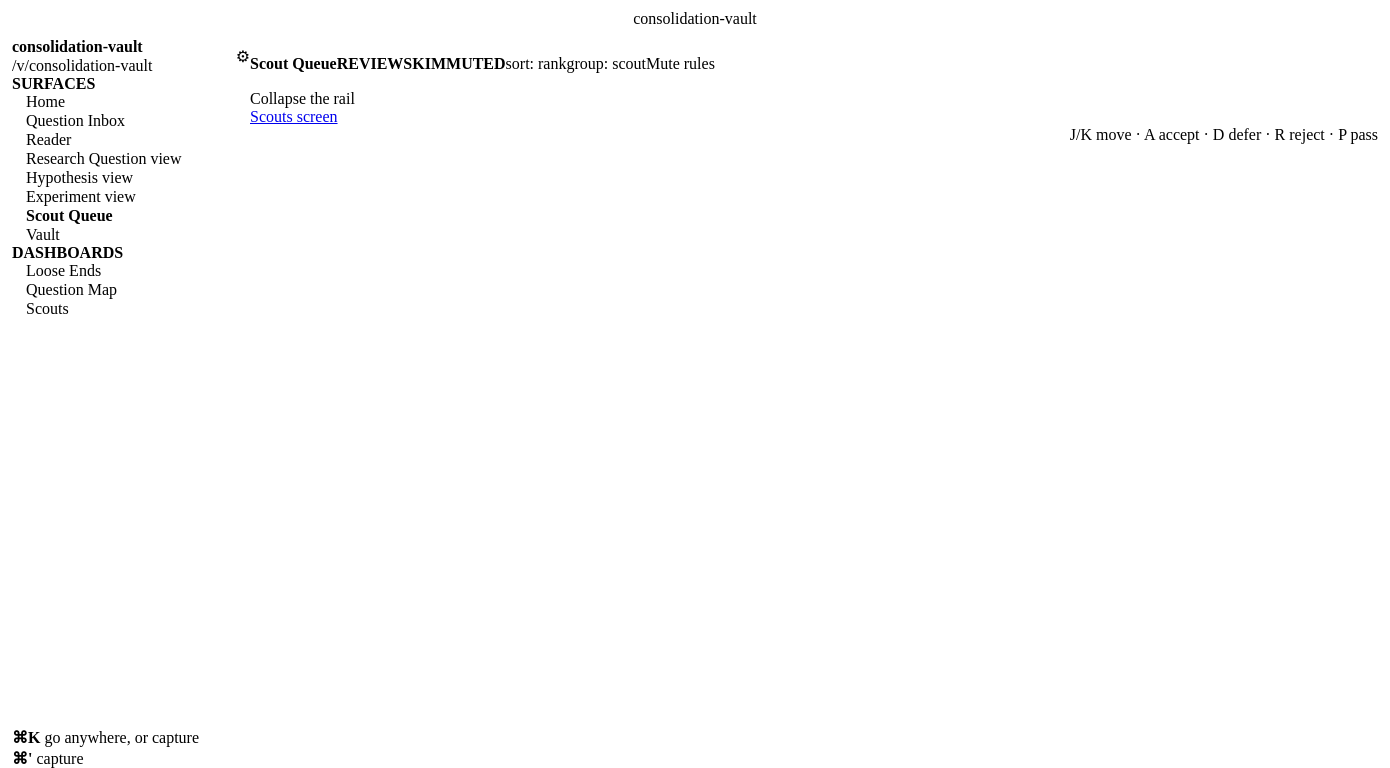
Scenario: a refused act in the Scout Queue › promote to Review is an alert carrying the core's sentence, and no status stands in its place
Click the tab "Skim" at (425, 64), box [403, 55, 446, 73]
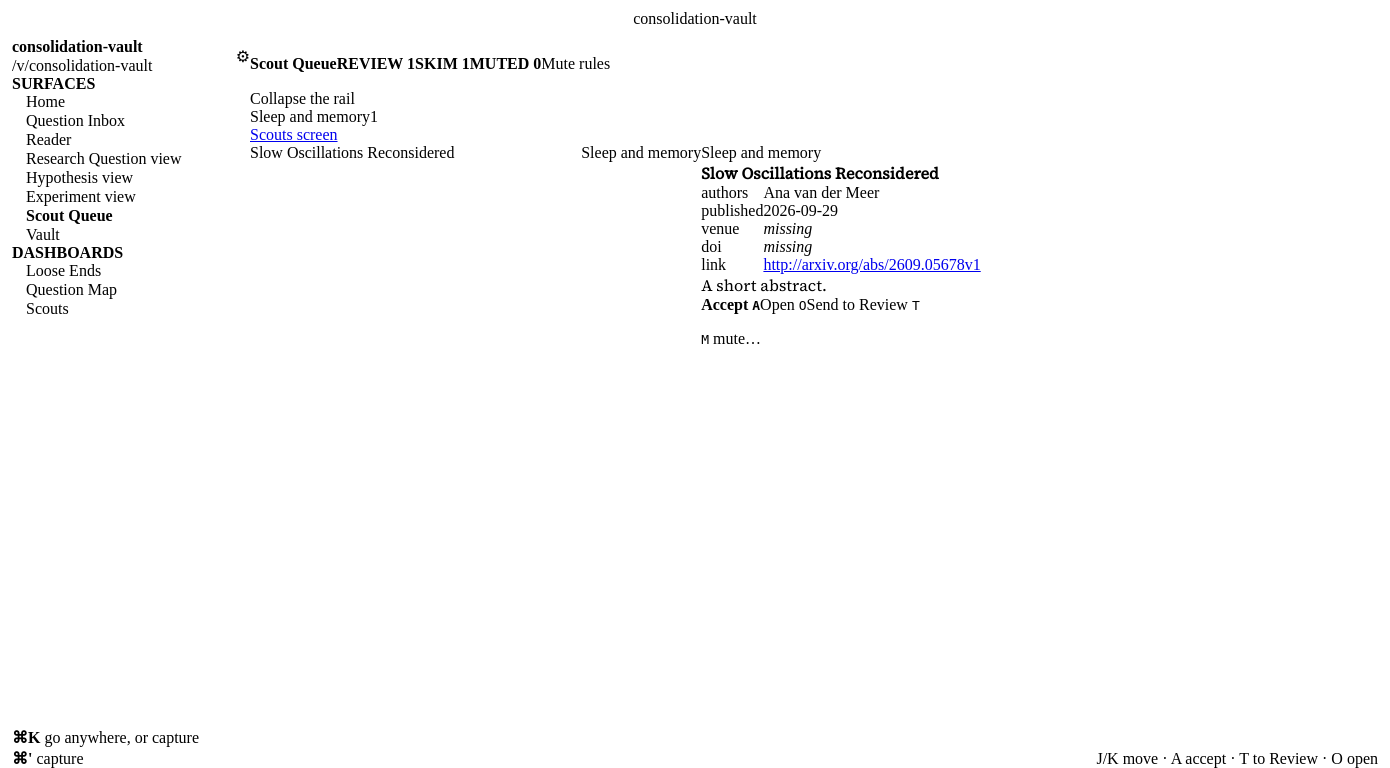
Press t in the element "Slow Oscillations Reconsidered", box [701, 144, 981, 347]
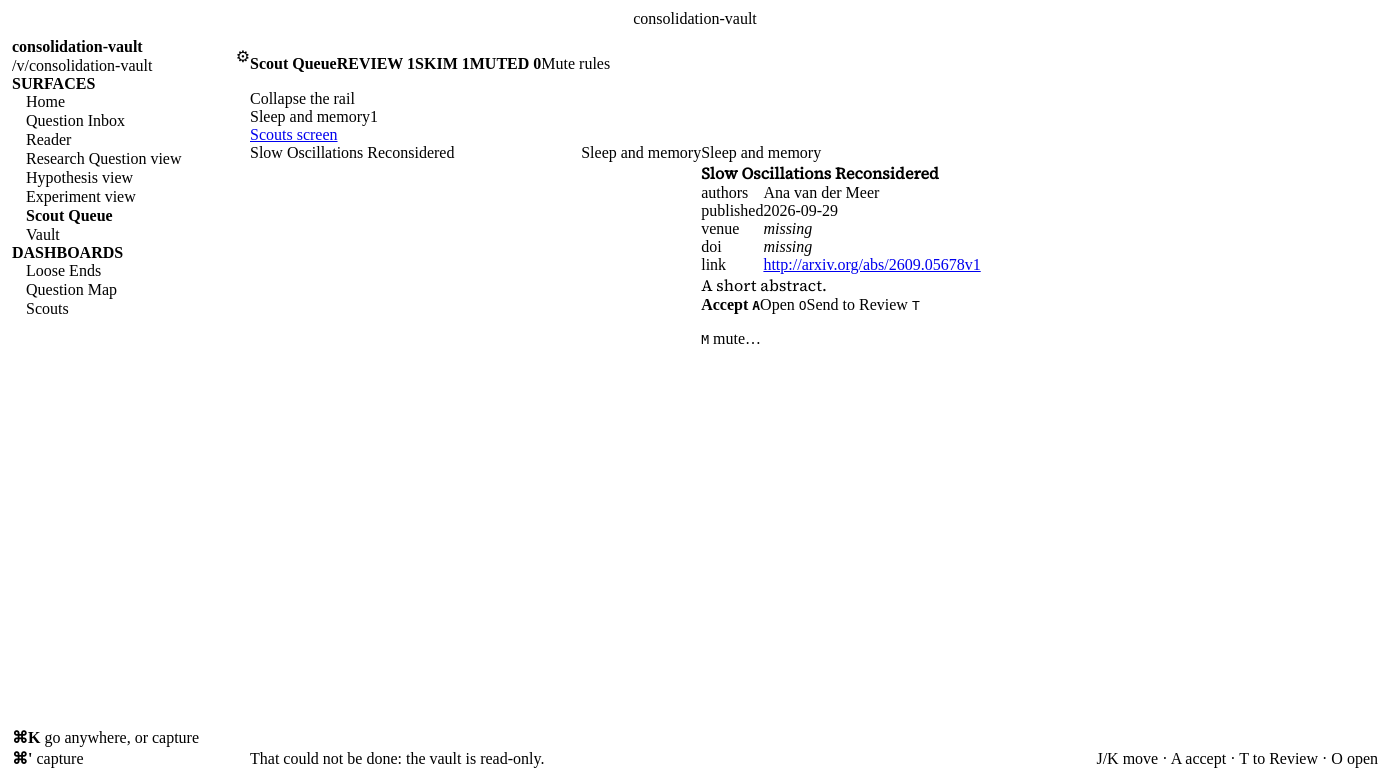
Expected: the message reads "That could not be done: the vault is read-only.", [250, 750, 544, 767]
